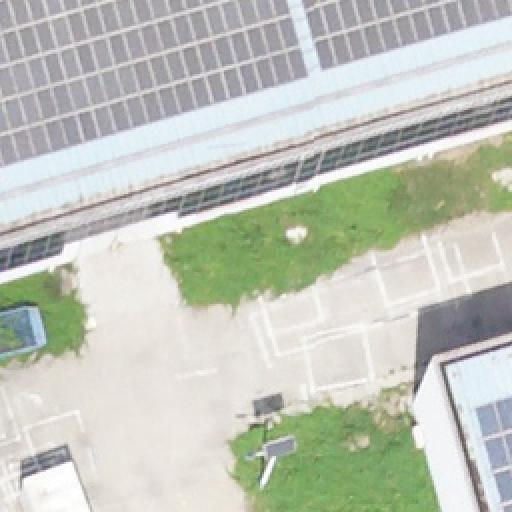solar-panel: (1, 0, 311, 168), (300, 1, 512, 71), (473, 396, 511, 512)
